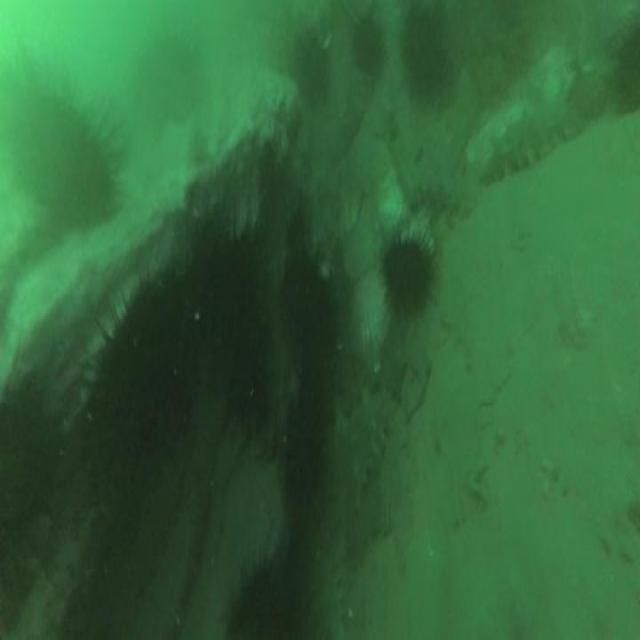echinus: (100, 303, 192, 479), (19, 98, 117, 226), (0, 394, 56, 552), (230, 564, 315, 640), (283, 398, 329, 511), (226, 322, 270, 427), (402, 11, 452, 103), (206, 232, 257, 318), (290, 30, 333, 112), (384, 239, 431, 308), (284, 256, 326, 330), (353, 21, 382, 72)
holothurian: (483, 108, 577, 176), (346, 384, 396, 503), (402, 156, 473, 220)
